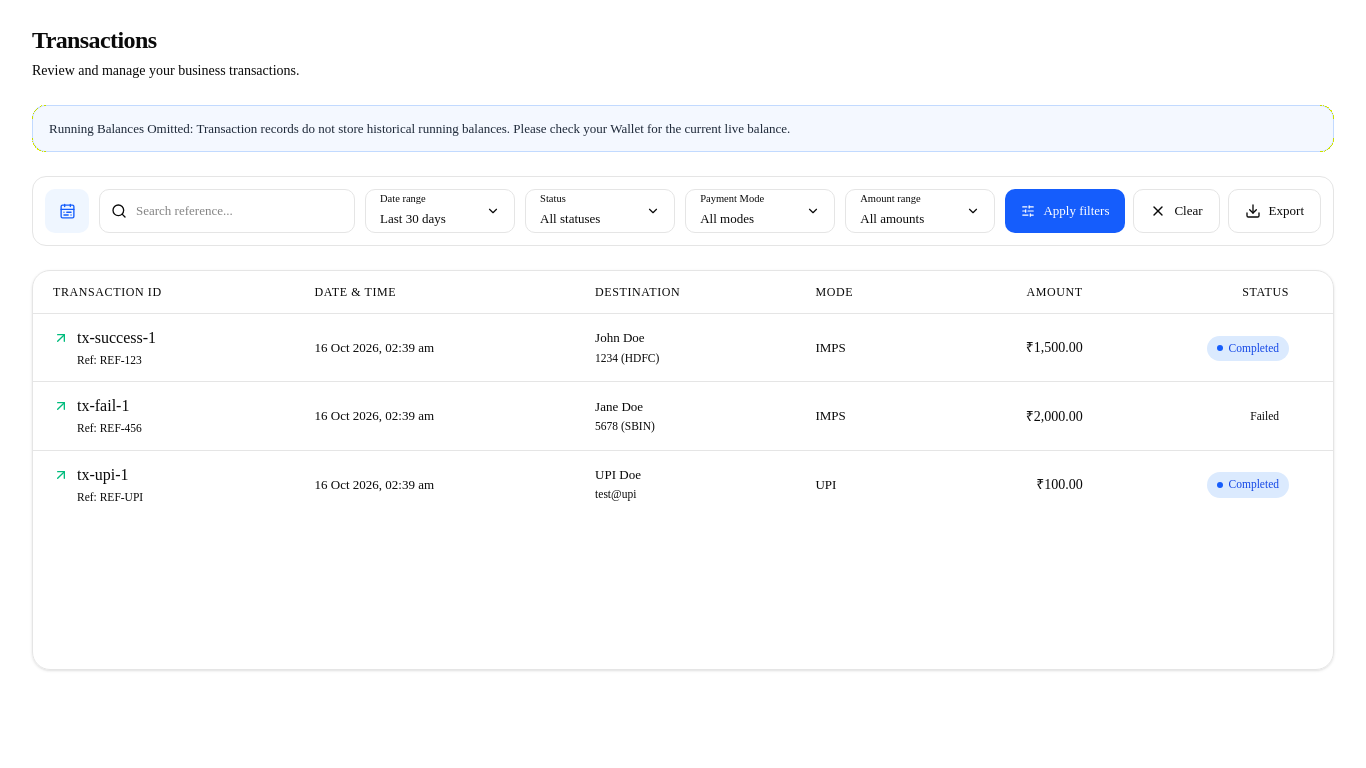
Test case: TransactionsDashboard Detail Drawer UI › 13: Renders UPI VPA correctly and hides bank details
Click the text "tx-upi-1" at (103, 475), box [77, 463, 128, 487]
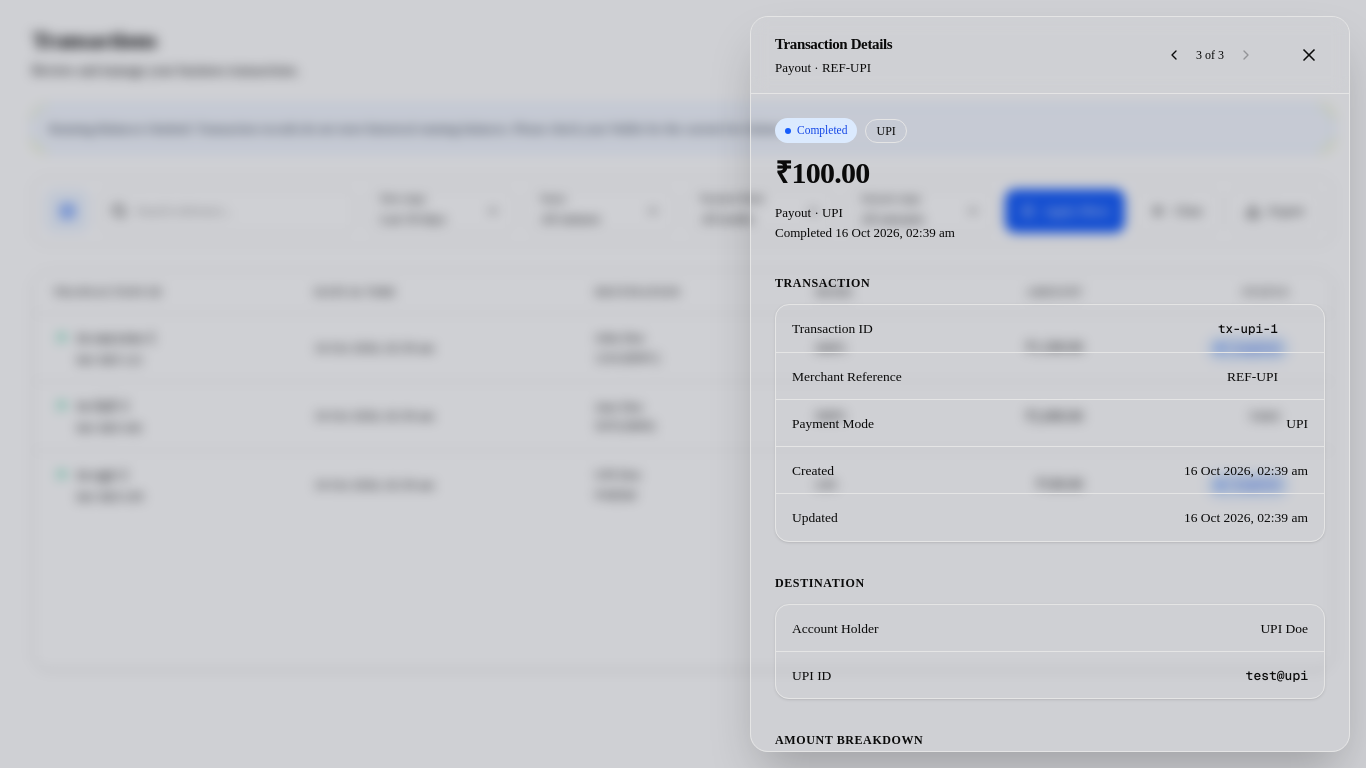
Check: the text "UPI ID" is shown, box [792, 664, 831, 686]
Check: the text "test@upi" is shown, box [1246, 667, 1308, 684]
